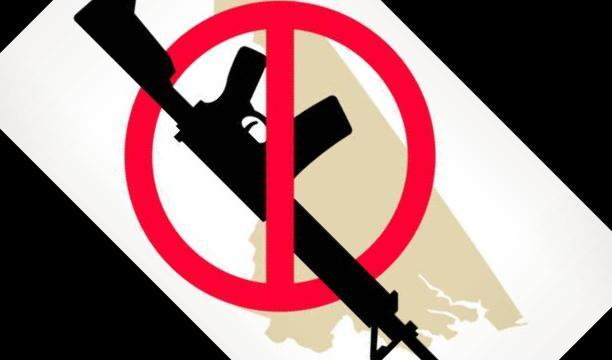larga: (73, 1, 439, 360)
